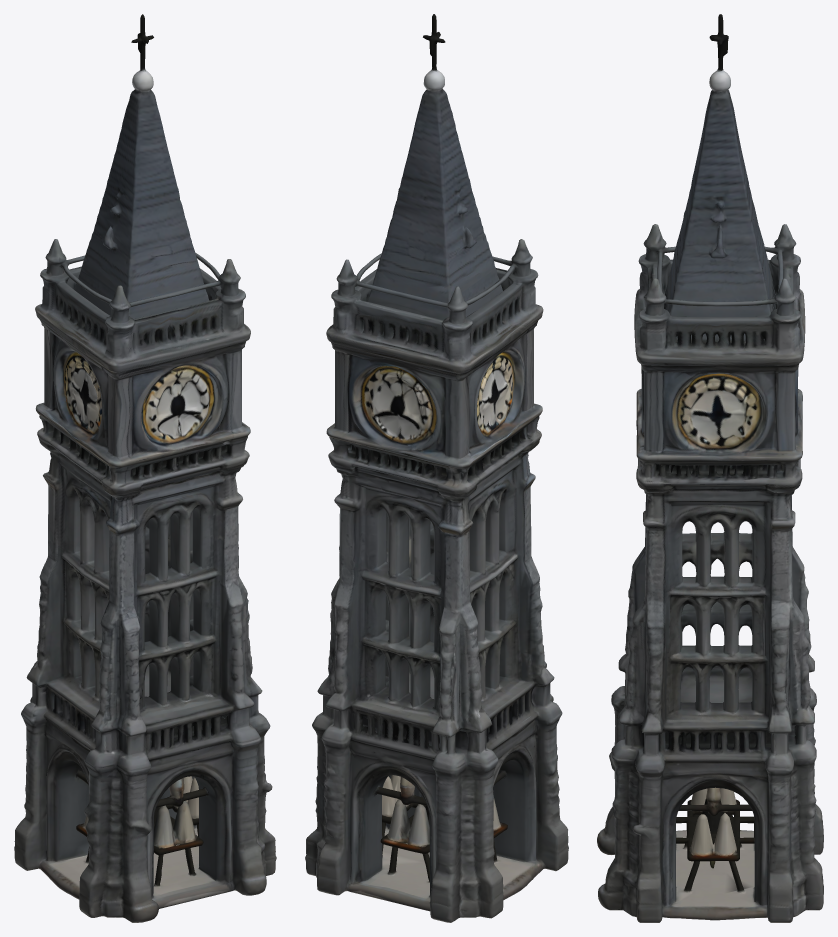
Rendered from city-clock-tower.glb.
3 views of the same model, side by side, from view 1: azimuth 30°, elevation 25°; view 2: azimuth 150°, elevation 25°; view 3: azimuth 270°, elevation 25° (orthographic).
Parts seen in each view (by area): view 1: tripo_node_c515c6d1-e9c1-4eb7-9b9f-f338b02a8141; view 2: tripo_node_c515c6d1-e9c1-4eb7-9b9f-f338b02a8141; view 3: tripo_node_c515c6d1-e9c1-4eb7-9b9f-f338b02a8141.
Part boxes in pixels (x1,y1,x2,y2): tripo_node_c515c6d1-e9c1-4eb7-9b9f-f338b02a8141: (14,14,276,922); tripo_node_c515c6d1-e9c1-4eb7-9b9f-f338b02a8141: (305,14,568,922); tripo_node_c515c6d1-e9c1-4eb7-9b9f-f338b02a8141: (597,14,823,922).
Bounding box in the file's own units: 4.15 × 18 × 4.27.
Materials: 1 (1 with a texture image).
